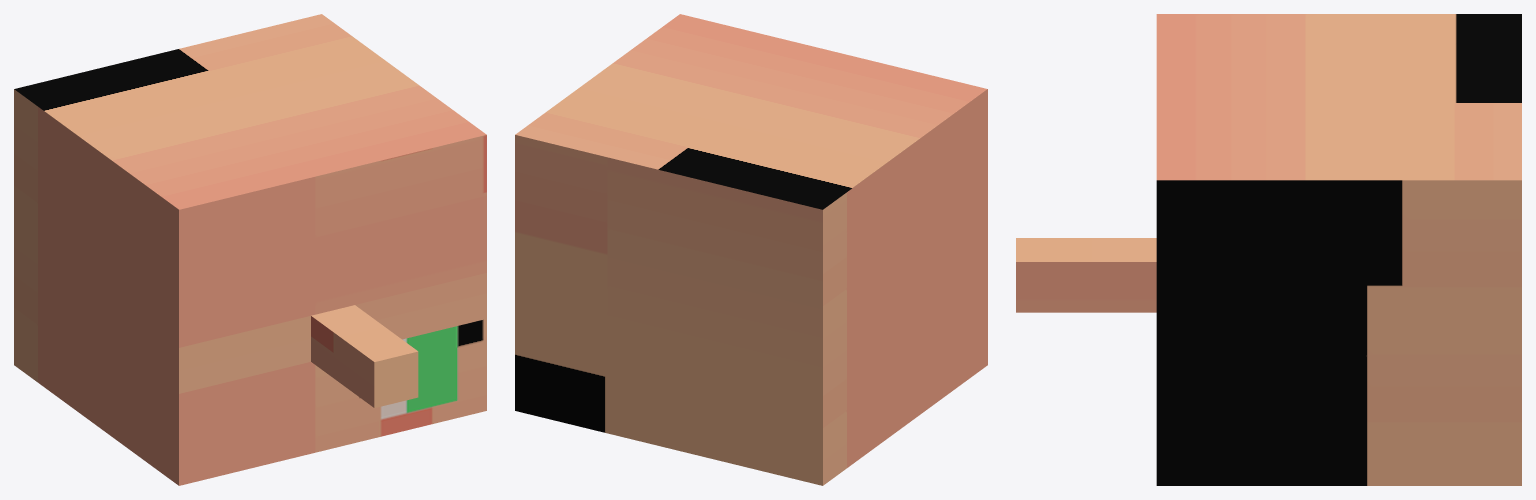
Rendered from Head011.fbx.
3 views of the same model, side by side, from view 1: azimuth 30°, elevation 25°; view 2: azimuth 150°, elevation 25°; view 3: azimuth 270°, elevation 25° (orthographic). The views are drawn at different scales.
Parts seen in each view (by area): view 1: Head011; view 2: Head011; view 3: Head011.
Boxes of the visible parts, <box> form: Head011: <box>14,14,486,485</box>; Head011: <box>515,14,987,485</box>; Head011: <box>1016,14,1521,485</box>.
Bounding box in the file's own units: 13.88 × 11.9 × 17.84.
